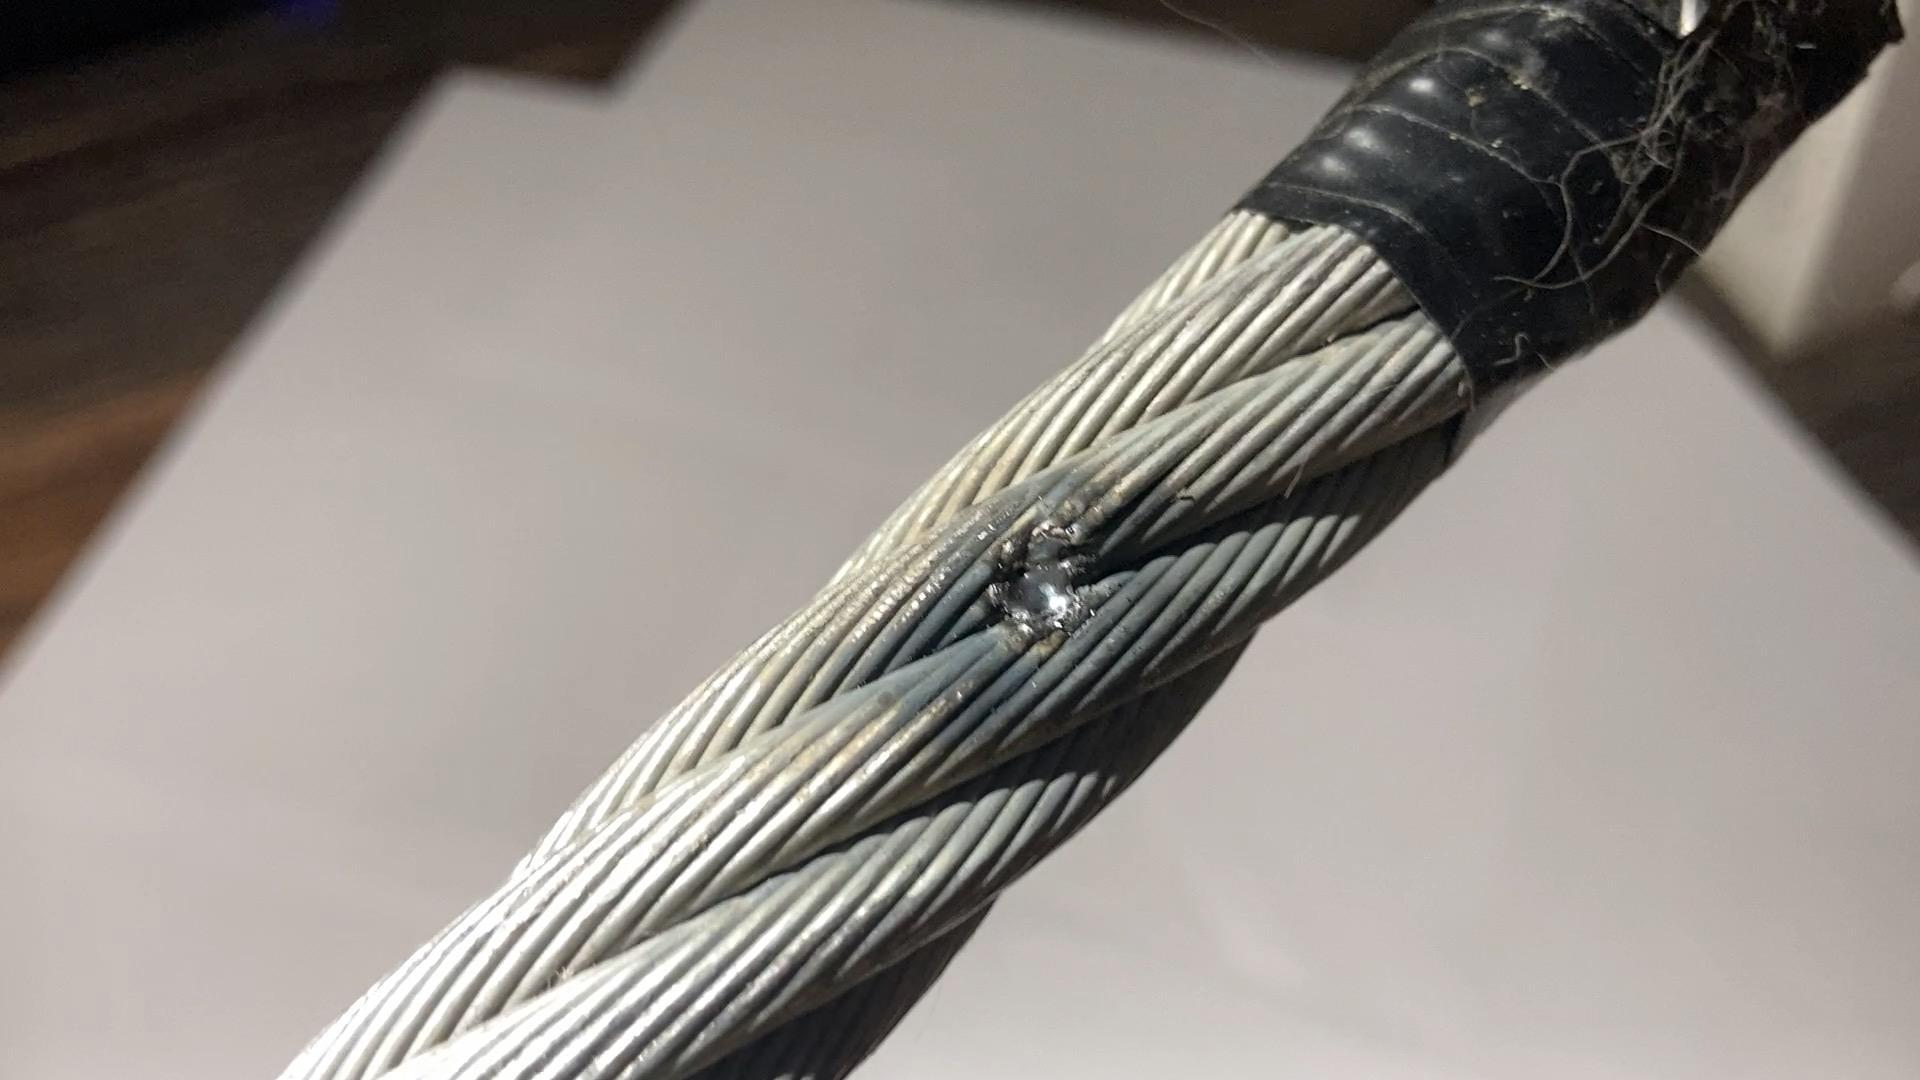thunderbolt: (981, 477, 1130, 634)
